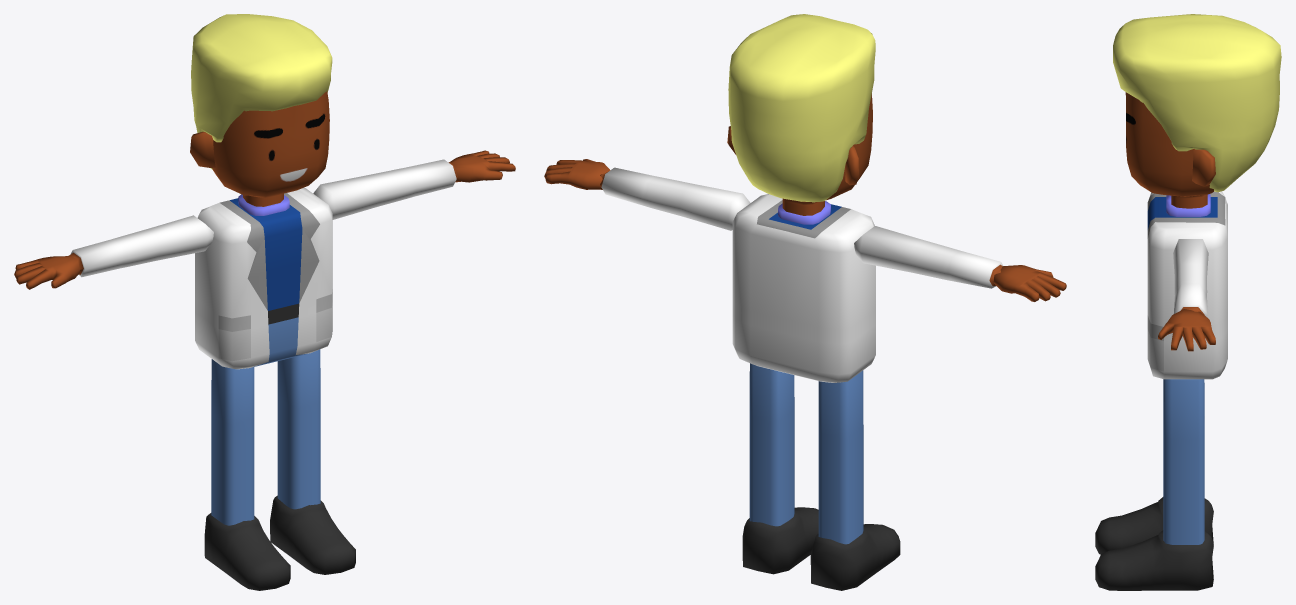
The model's file is NPC_Yellow01_BlondeHair06.gltf.
3 renders of one model, left to right at view 1: azimuth 30°, elevation 25°; view 2: azimuth 150°, elevation 25°; view 3: azimuth 270°, elevation 25°, orthographic. The views are drawn at different scales.
Visible parts, largest first — view 1: NPC_Corpo_Yellow1_BlondeHair.006; view 2: NPC_Corpo_Yellow1_BlondeHair.006; view 3: NPC_Corpo_Yellow1_BlondeHair.006.
Part boxes in pixels (bbox=[...]): NPC_Corpo_Yellow1_BlondeHair.006: bbox=[14, 14, 515, 590]; NPC_Corpo_Yellow1_BlondeHair.006: bbox=[544, 14, 1066, 590]; NPC_Corpo_Yellow1_BlondeHair.006: bbox=[1095, 14, 1281, 590].
Size of the model in its own units: 2.31 by 2.31 by 0.7282.
Materials: 1 (1 with a texture image).
